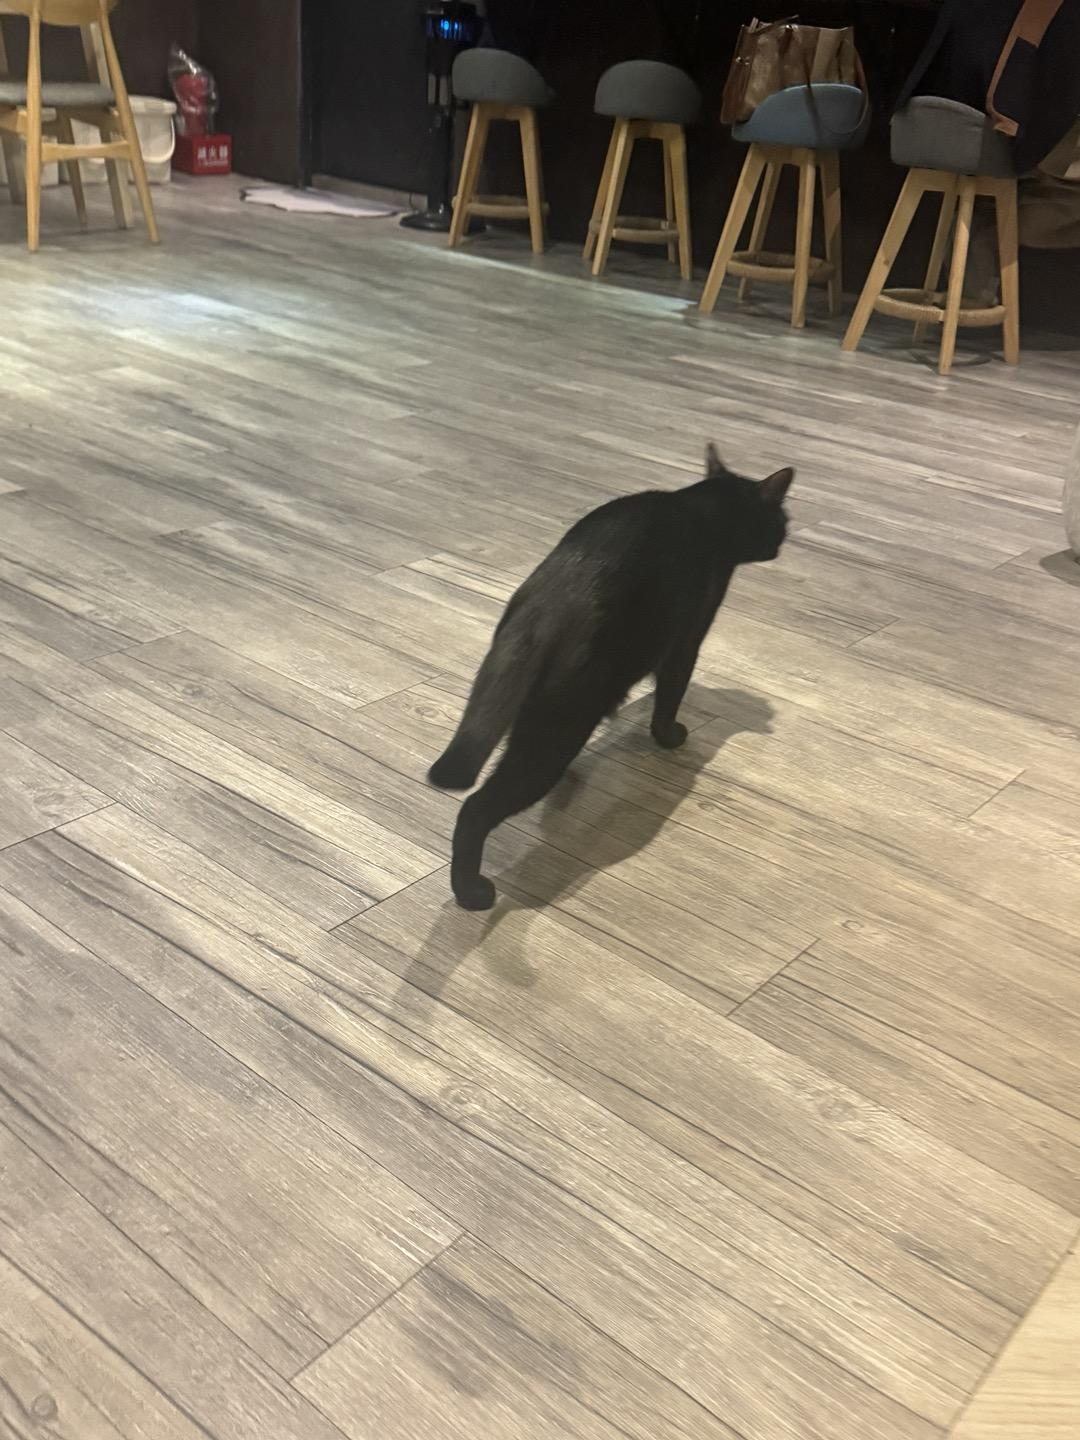cat: (424, 437, 796, 912)
